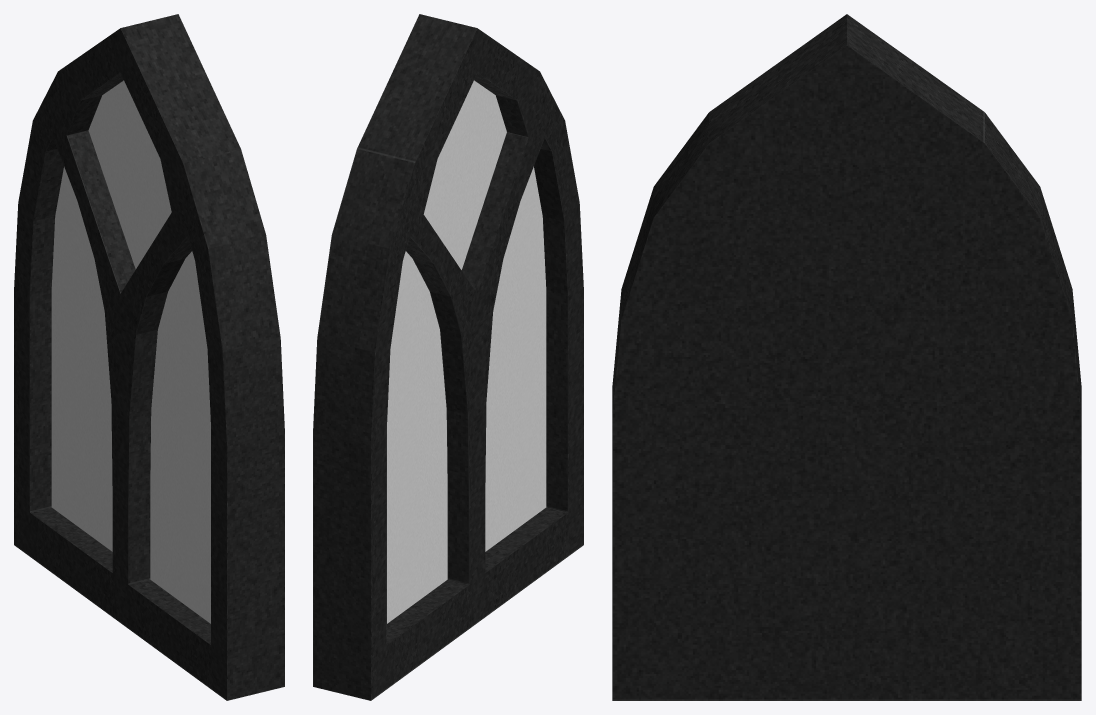
File: Window.fbx
The picture shows the model from 3 angles, left to right: view 1: azimuth 30°, elevation 25°; view 2: azimuth 150°, elevation 25°; view 3: azimuth 270°, elevation 25°; orthographic projection. The views are drawn at different scales.
Visible parts, largest first — view 1: Box002; view 2: Box002; view 3: Box002.
Part boxes in pixels (box(x1,y1,x2,y2)): Box002: box(14, 14, 284, 700); Box002: box(313, 14, 583, 700); Box002: box(612, 14, 1081, 700).
Bounding box in the file's own units: 0.16 × 1.57 × 1.02.
